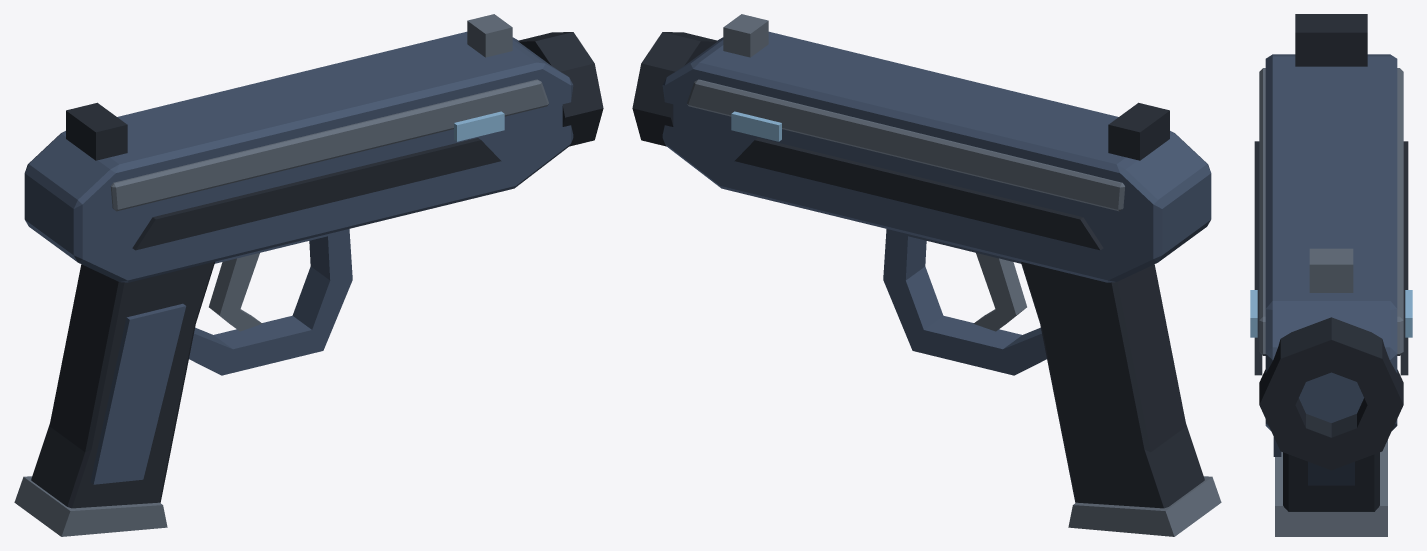
3 renders of one model, left to right at view 1: azimuth 30°, elevation 25°; view 2: azimuth 150°, elevation 25°; view 3: azimuth 270°, elevation 25°, orthographic. The views are drawn at different scales.
Parts seen in each view (by area): view 1: Receptor, Punho, Tampa superior, Rebaixo lateral, Painel do punho, Arco aberto, Base do punho, Terminal frontal, Mira posterior, Gatilho de jogo, Mira frontal, Detalhe de cor; view 2: Receptor, Punho, Tampa superior, Rebaixo lateral.001, Arco aberto, Base do punho, Terminal frontal, Mira posterior, Gatilho de jogo, Mira frontal, Detalhe de cor.001; view 3: Receptor, Terminal frontal, Tampa superior, Punho, Mira posterior, Base do punho, Mira frontal, Rebaixo lateral, Rebaixo lateral.001, Arco aberto, Detalhe de cor, Detalhe de cor.001.
Boxes of the visible parts, <box> form: Receptor: <box>24,31,573,282</box>; Punho: <box>31,261,214,508</box>; Tampa superior: <box>110,79,548,211</box>; Rebaixo lateral: <box>132,138,501,250</box>; Painel do punho: <box>90,303,186,484</box>; Arco aberto: <box>189,229,352,375</box>; Base do punho: <box>14,476,167,536</box>; Terminal frontal: <box>518,32,603,146</box>; Mira posterior: <box>66,102,127,160</box>; Gatilho de jogo: <box>209,253,262,331</box>; Mira frontal: <box>467,14,512,57</box>; Detalhe de cor: <box>454,111,504,141</box>; Receptor: <box>662,31,1211,282</box>; Punho: <box>1021,261,1204,508</box>; Tampa superior: <box>687,79,1125,211</box>; Rebaixo lateral.001: <box>734,138,1103,250</box>; Arco aberto: <box>883,229,1046,375</box>; Base do punho: <box>1068,476,1221,536</box>; Terminal frontal: <box>632,32,717,146</box>; Mira posterior: <box>1108,102,1169,160</box>; Gatilho de jogo: <box>973,253,1026,331</box>; Mira frontal: <box>723,14,768,57</box>; Detalhe de cor.001: <box>731,111,781,141</box>; Receptor: <box>1265,54,1397,430</box>; Terminal frontal: <box>1259,317,1403,470</box>; Tampa superior: <box>1259,68,1403,355</box>; Punho: <box>1283,452,1379,511</box>; Mira posterior: <box>1295,14,1367,66</box>; Base do punho: <box>1275,440,1387,536</box>; Mira frontal: <box>1309,248,1353,292</box>; Rebaixo lateral: <box>1254,141,1262,375</box>; Rebaixo lateral.001: <box>1400,141,1408,375</box>; Arco aberto: <box>1308,462,1354,485</box>; Detalhe de cor: <box>1250,290,1257,337</box>; Detalhe de cor.001: <box>1405,290,1412,337</box>.
Bounding box in the file's own units: 2.37 × 1.71 × 0.518.
